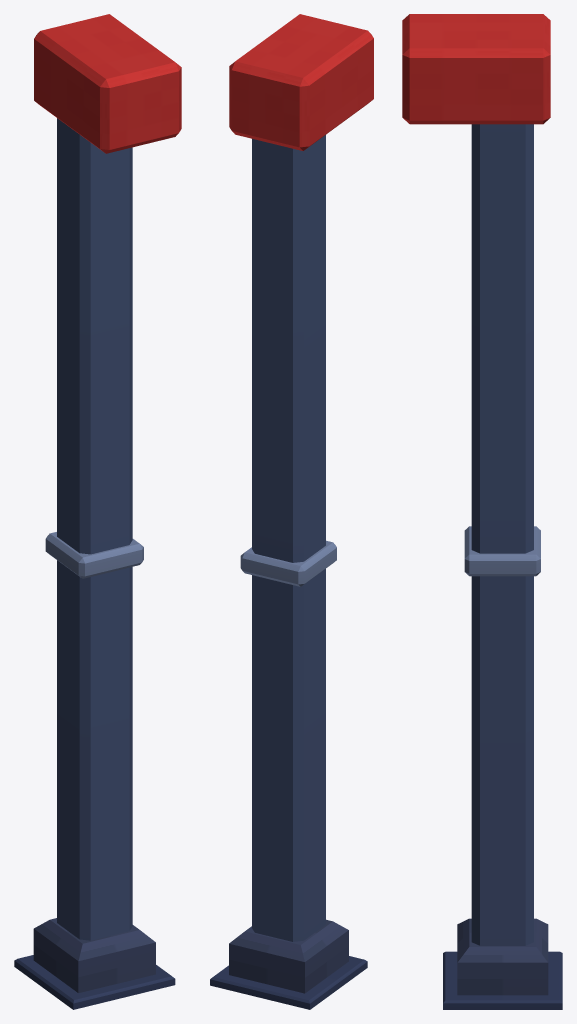
Rendered from SM_Upright.fbx.
The picture shows the model from 3 angles, left to right: view 1: azimuth 30°, elevation 25°; view 2: azimuth 150°, elevation 25°; view 3: azimuth 270°, elevation 25°; orthographic projection. The views are drawn at different scales.
Visible parts, largest first — view 1: SM_Upright; view 2: SM_Upright; view 3: SM_Upright.
Part boxes in pixels (x1=…): SM_Upright: x1=14, y1=14, x2=181, y2=1009; SM_Upright: x1=210, y1=14, x2=373, y2=1009; SM_Upright: x1=402, y1=14, x2=562, y2=1009.
Size of the model in its own units: 0.5 by 4.4 by 0.67.
1 material, 1 textured.
